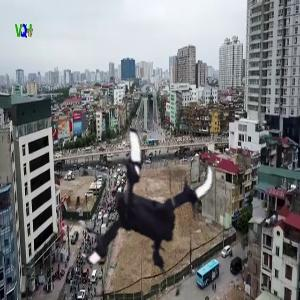drone: (56, 127, 230, 300)
